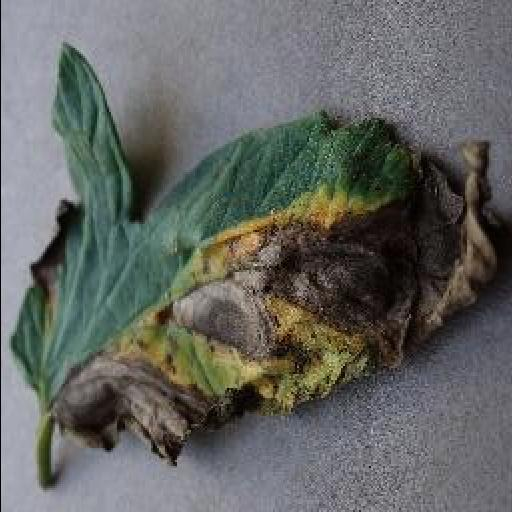disease_tomato: (6, 43, 508, 496)
